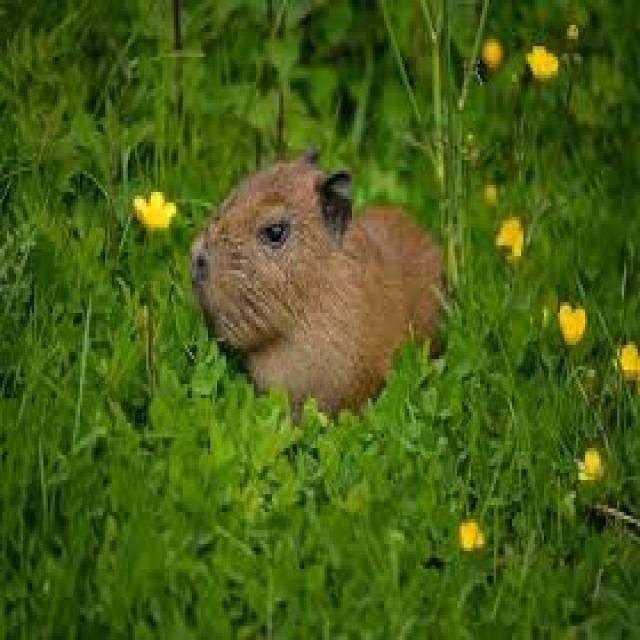capy: (185, 143, 440, 415)
